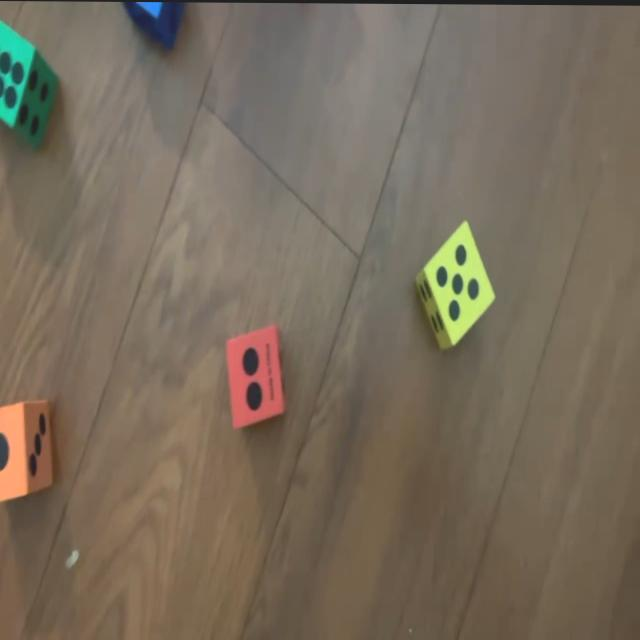blue_block: (120, 1, 180, 41)
red_block: (226, 323, 286, 427)
